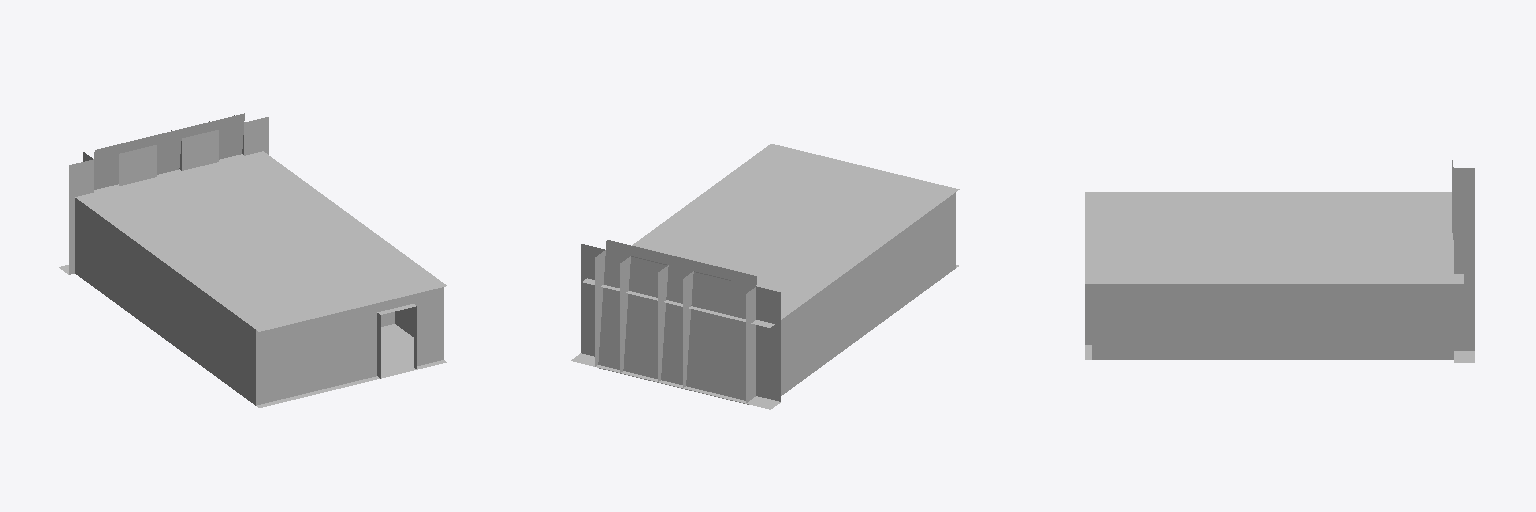
File: LC_room1_archive.obj
3 views of the same model, side by side, from view 1: azimuth 30°, elevation 25°; view 2: azimuth 150°, elevation 25°; view 3: azimuth 270°, elevation 25° (orthographic).
Visible parts, largest first — view 1: room1archive_opt; view 2: room1archive_opt; view 3: room1archive_opt.
Part boxes in pixels (left/top/right/bottom): room1archive_opt: left=59, top=113, right=446, bottom=407; room1archive_opt: left=571, top=144, right=959, bottom=409; room1archive_opt: left=1085, top=160, right=1474, bottom=362.
Size of the model in its own units: 264 by 154 by 444.